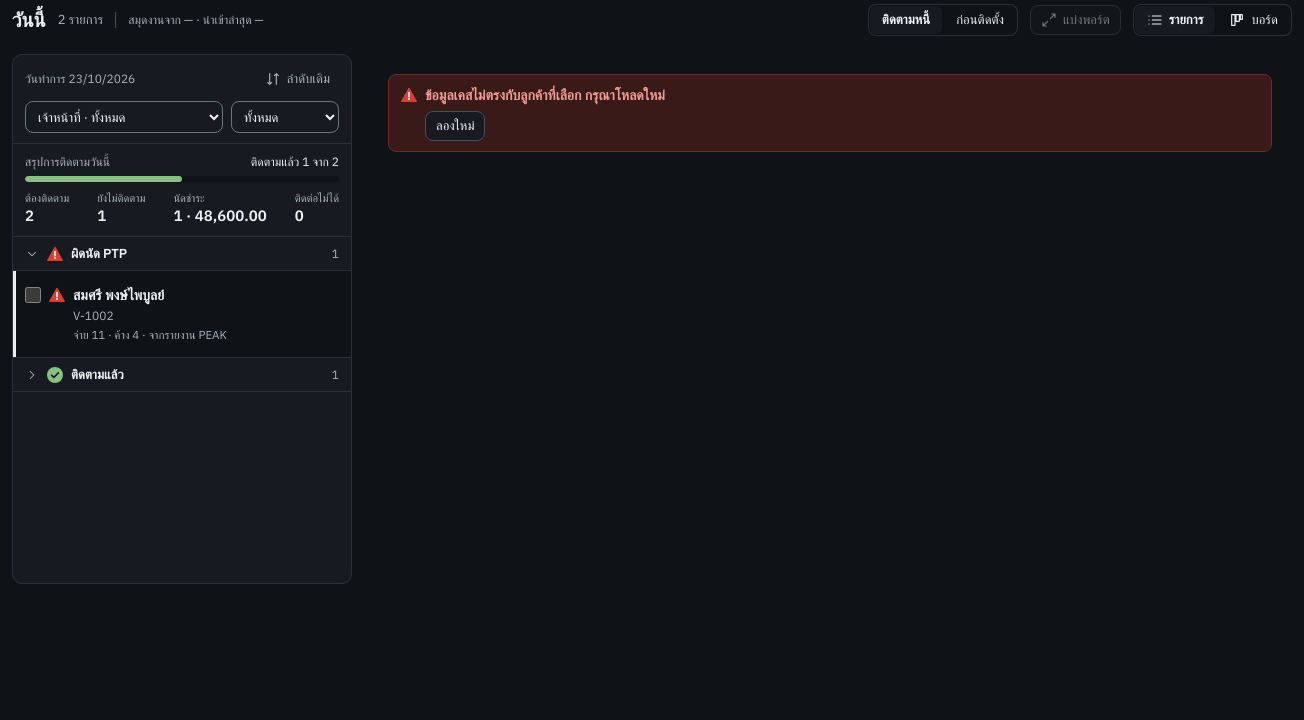
it: Today worked rows and the daily summary (F17, D05) › collects worked rows into the bottom group with the compact customer row and six-number strip
# the row moved out of its tier into the bottom group (collapsed until opened)
Click the button "ติดตามแล้ว 1". click: (97, 374)
box: [13,358,351,392]
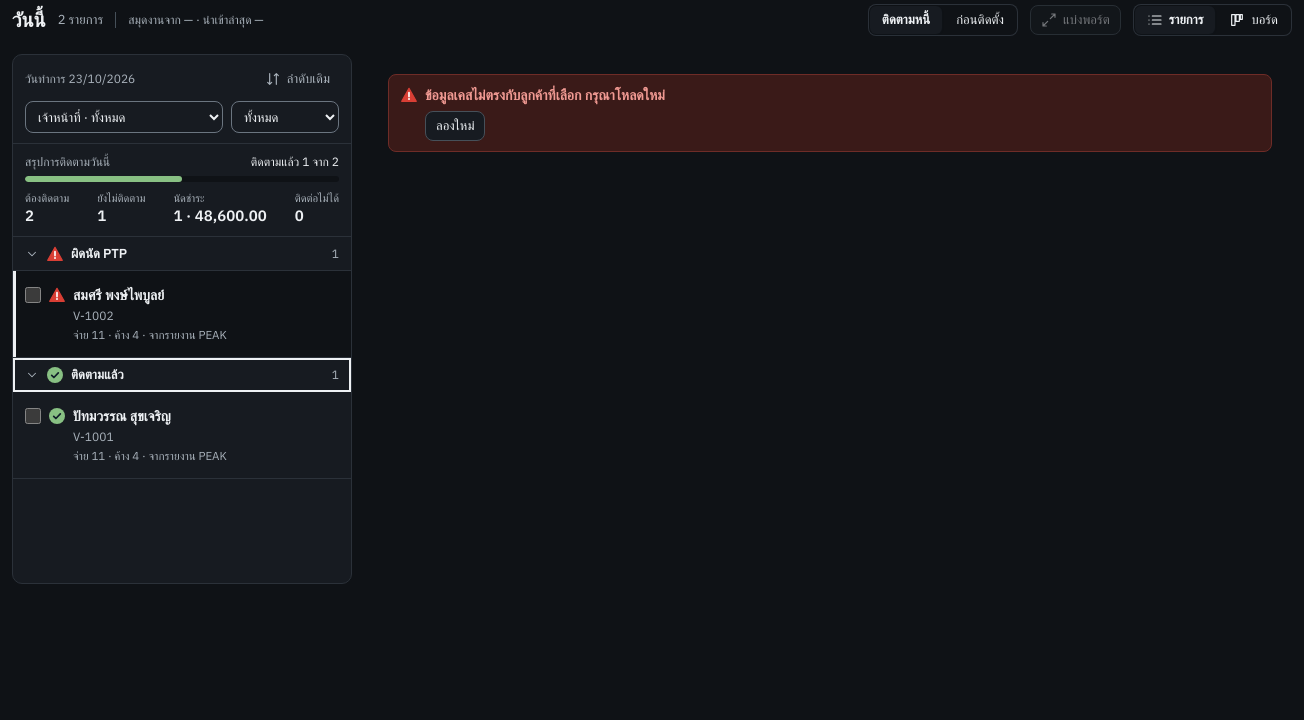
Expected: the text "ปัทมวรรณ สุขเจริญ" is shown, [73,406,171,426]
Expected: the text "V-1001" is shown, [73,429,114,445]
Expected: the 2nd text "จ่าย 11 · ค้าง 4" is shown, [73,448,139,463]
